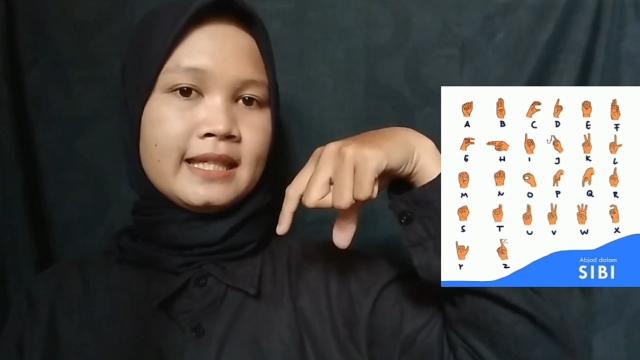Q: (276, 122, 422, 254)
